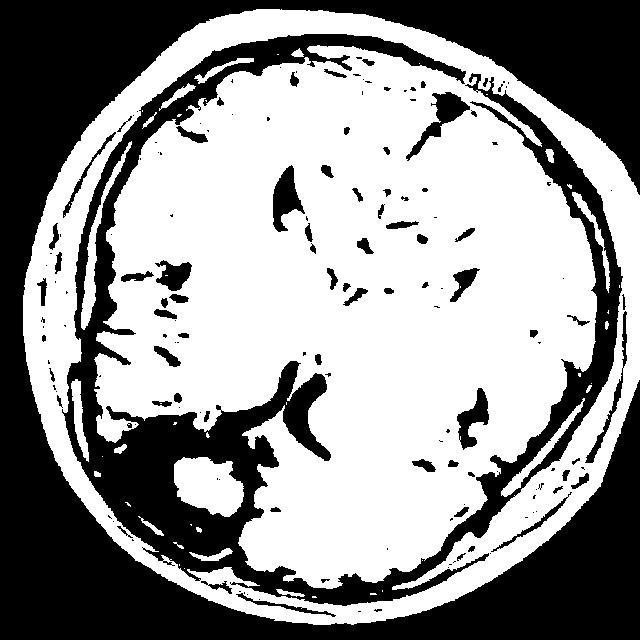Brain-Tumor: (120, 406, 271, 553)
